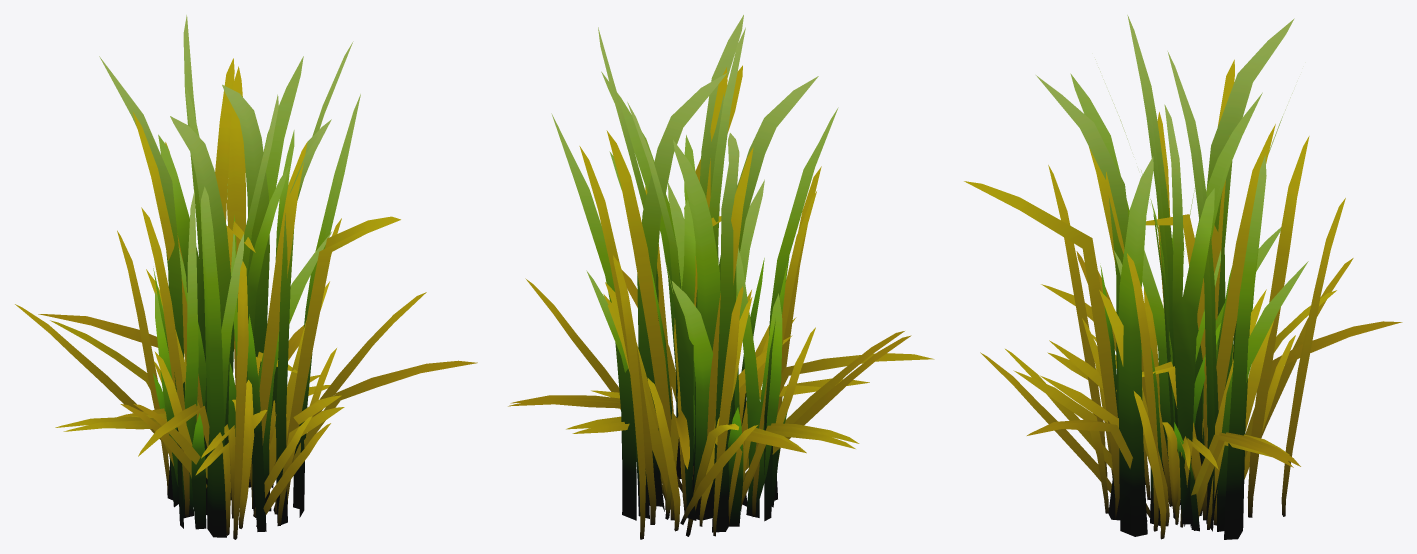
The model's file is megakit-grass.glb.
The picture shows the model from 3 angles, left to right: view 1: azimuth 30°, elevation 25°; view 2: azimuth 150°, elevation 25°; view 3: azimuth 270°, elevation 25°; orthographic projection. The views are drawn at different scales.
Parts seen in each view (by area): view 1: Grass_Common_Tall, Grass_Wispy_Tall, Grass_Common_Short, Grass_Wispy_Short; view 2: Grass_Common_Tall, Grass_Wispy_Tall, Grass_Common_Short, Grass_Wispy_Short; view 3: Grass_Common_Tall, Grass_Wispy_Tall, Grass_Wispy_Short, Grass_Common_Short.
Part boxes in pixels (box(x1,y1,x2,y2)): Grass_Common_Tall: box(99, 15, 360, 537); Grass_Wispy_Tall: box(15, 58, 477, 539); Grass_Common_Short: box(153, 184, 331, 529); Grass_Wispy_Short: box(50, 269, 341, 528); Grass_Common_Tall: box(551, 15, 838, 532); Grass_Wispy_Tall: box(508, 65, 934, 539); Grass_Common_Short: box(586, 179, 787, 526); Grass_Wispy_Short: box(510, 282, 904, 536); Grass_Common_Tall: box(1036, 15, 1294, 539); Grass_Wispy_Tall: box(964, 59, 1402, 531); Grass_Wispy_Short: box(1005, 251, 1336, 539); Grass_Common_Short: box(1114, 186, 1308, 531).
Bounding box in the file's own units: 1.54 × 1.93 × 1.59.
Materials: 1 (1 with a texture image).
